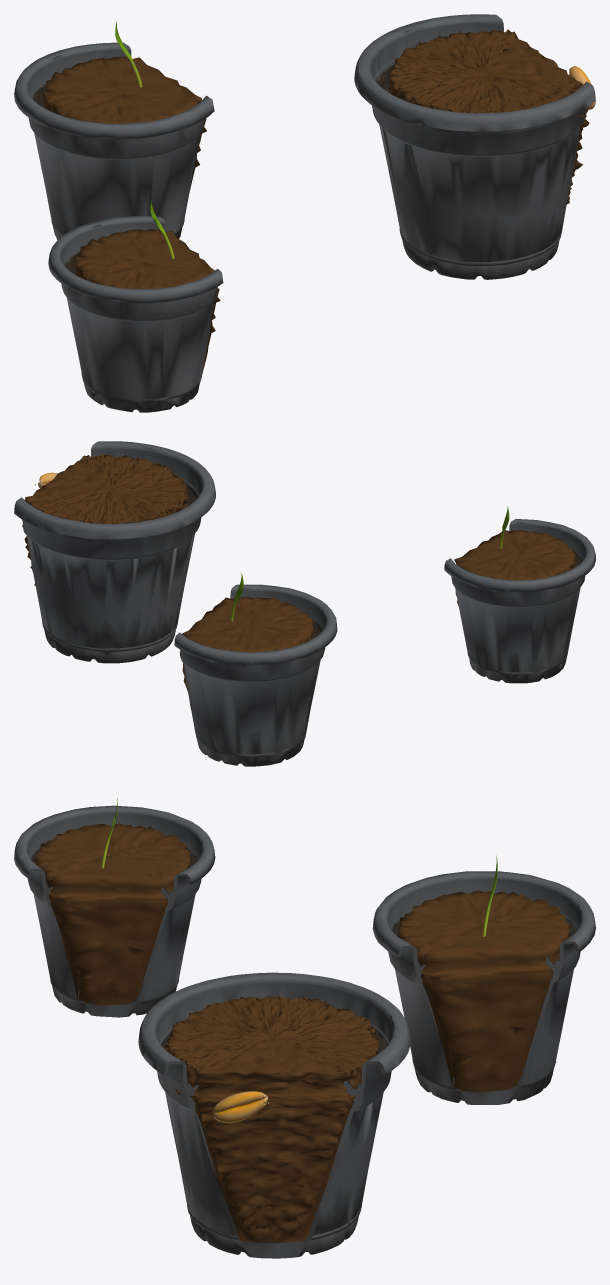
File: WheatSeedlingGrowth-web.glb
3 renders of one model, top to bottom at view 1: azimuth 30°, elevation 25°; view 2: azimuth 150°, elevation 25°; view 3: azimuth 270°, elevation 25°, orthographic. The views are drawn at different scales.
Visible parts, largest first — view 1: BG_Pot_Left_LOD, BG_Soil_Left_LOD, BG_Shoot_Left_LOD; view 2: BG_Pot_Left_LOD, BG_Soil_Left_LOD; view 3: BG_Soil_Left_LOD, BG_Pot_Left_LOD, Seed.001.
Part boxes in pixels (x1=…): BG_Pot_Left_LOD: x1=14, y1=14, x2=595, y2=412; BG_Soil_Left_LOD: x1=42, y1=29, x2=589, y2=375; BG_Shoot_Left_LOD: x1=115, y1=21, x2=174, y2=258; BG_Pot_Left_LOD: x1=14, y1=441, x2=595, y2=766; BG_Soil_Left_LOD: x1=22, y1=454, x2=576, y2=708; BG_Soil_Left_LOD: x1=34, y1=823, x2=570, y2=1242; BG_Pot_Left_LOD: x1=14, y1=805, x2=595, y2=1258; Seed.001: x1=213, y1=1091, x2=267, y2=1123.
Bounding box in the file's own units: 2.59 × 1.16 × 2.04.
Materials: 5 (5 with a texture image).
